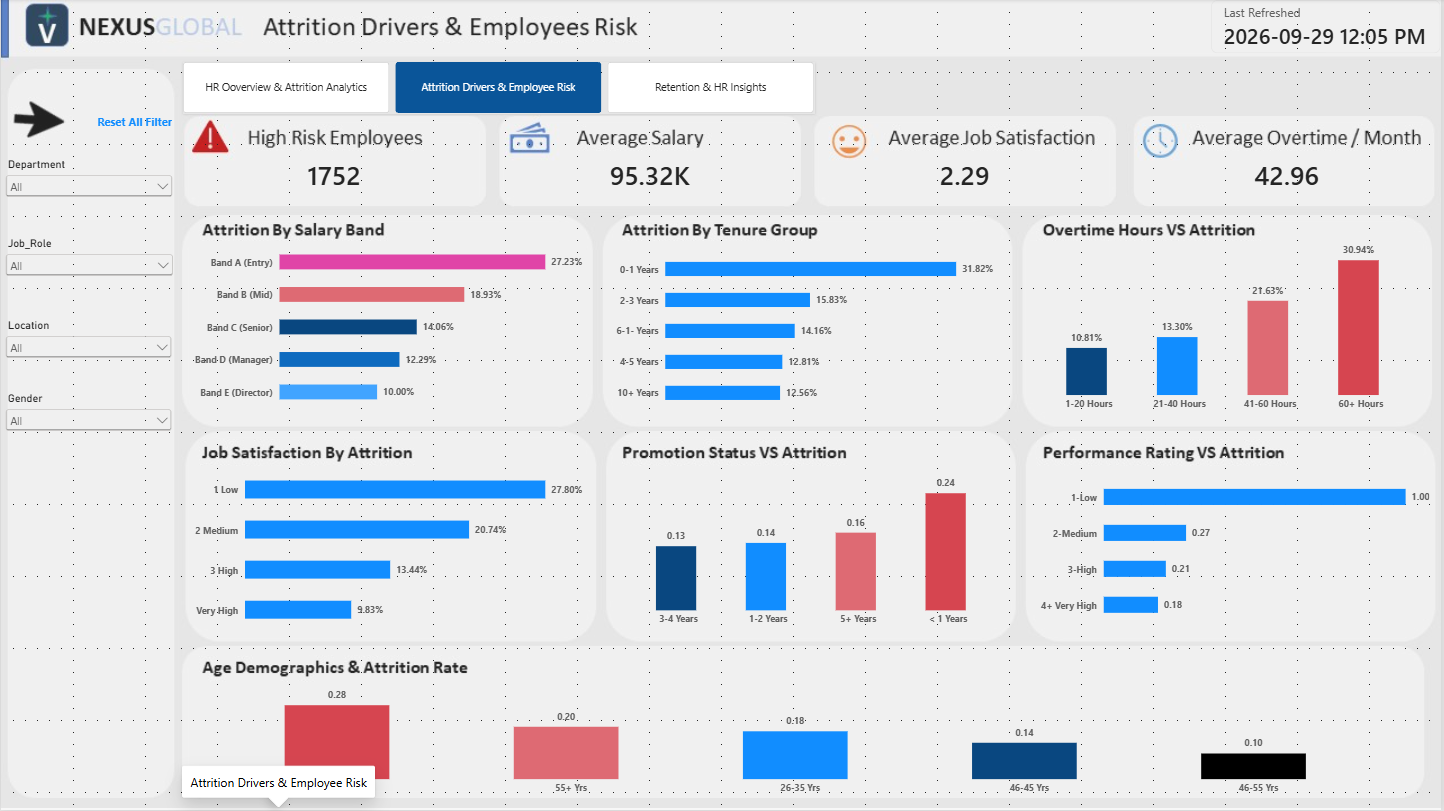

The page's visual inventory and layout, read from the dashboard file:
{"tool":"powerbi","page":{"name":"Attrition Drivers & Employee Risk","canvas":[1920,1080],"ordinal":1},"visuals":[{"type":"card","fields":{"Values":["Compensation.Average Salary"]},"box":[661.2,194.7,407,79.8],"z":0},{"type":"card","fields":{"Values":["Performance.Average Job Satisfaction"]},"box":[1084.4,194.7,401.6,79.8],"z":1000},{"type":"card","fields":{"Values":["Attendance_Attrition.Avg Overtime"]},"box":[1507.6,194.7,412.4,79.8],"z":2000},{"type":"card","fields":{"Values":["Attendance_Attrition.High Risk Employees"]},"box":[240.7,194.7,405.6,79.8],"z":3000},{"type":"clusteredBarChart","fields":{"Category":["Compensation.Salary_Band"],"Y":["Attendance_Attrition.ATTRITION RATE"]},"box":[240.7,300.2,550.3,267.7],"z":4000},{"type":"clusteredBarChart","fields":{"Category":["Employment_History.Tensure Group"],"Y":["Attendance_Attrition.ATTRITION RATE"]},"box":[803.2,311,536.8,256.9],"z":5000},{"type":"clusteredColumnChart","fields":{"Category":["Attendance_Attrition.Overtime Hours Group"],"Y":["Attendance_Attrition.ATTRITION RATE"]},"box":[1356.2,300.2,551.7,267.7],"z":6000},{"type":"clusteredBarChart","fields":{"Category":["Performance.Job Satisfaction Group"],"Y":["Attendance_Attrition.ATTRITION RATE"]},"box":[240.7,597.6,550.3,267.7],"z":7000},{"type":"clusteredColumnChart","fields":{"Category":["Employment_History.Promotion Years Group"],"Y":["Attendance_Attrition.ATTRITION RATE"]},"box":[809.1,610.3,547.2,244.1],"z":8000},{"type":"clusteredBarChart","fields":{"Category":["Performance.Peformance Group"],"Y":["Attendance_Attrition.ATTRITION RATE"]},"box":[1368.7,610.3,551.5,244.1],"z":9000},{"type":"clusteredColumnChart","fields":{"Category":["Employees.Age Demographics"],"Y":["Attendance_Attrition.ATTRITION RATE"]},"box":[240,892.8,1651.2,186.5],"z":10000},{"type":"pageNavigator","box":[242.3,82.3,842.7,68.6],"z":11000},{"type":"slicer","fields":{"Values":["Employees.Department"]},"box":[1.5,210.9,232,70.7],"z":12000},{"type":"slicer","fields":{"Values":["Employees.Job_Role"]},"box":[1.5,315.6,232.7,80],"z":13000},{"type":"slicer","fields":{"Values":["Employees.Location"]},"box":[1.5,424.7,231.3,75.6],"z":14000},{"type":"slicer","fields":{"Values":["Employees.Gender"]},"box":[1.5,522.2,231.3,84.4],"z":15000},{"type":"actionButton","box":[91.9,130.3,148.1,64.5],"z":16000},{"type":"cardVisual","fields":{"Data":["Employees.Last Refreshed"]},"box":[1613.7,0,306.3,71.6],"z":17000}]}

Visuals, with their boxes on the page's 1920x1080 design canvas (x1, y1, x2, y2). These are canvas units, not pixel positions in the 1444x811 screenshot, which may show the page scaled, cropped or inside an application window:
card - Compensation.Average Salary: 661, 195, 1068, 274
card - Performance.Average Job Satisfaction: 1084, 195, 1486, 274
card - Attendance_Attrition.Avg Overtime: 1508, 195, 1920, 274
card - Attendance_Attrition.High Risk Employees: 241, 195, 646, 274
clusteredBarChart - Compensation.Salary_Band x Attendance_Attrition.ATTRITION RATE: 241, 300, 791, 568
clusteredBarChart - Employment_History.Tensure Group x Attendance_Attrition.ATTRITION RATE: 803, 311, 1340, 568
clusteredColumnChart - Attendance_Attrition.Overtime Hours Group x Attendance_Attrition.ATTRITION RATE: 1356, 300, 1908, 568
clusteredBarChart - Performance.Job Satisfaction Group x Attendance_Attrition.ATTRITION RATE: 241, 598, 791, 865
clusteredColumnChart - Employment_History.Promotion Years Group x Attendance_Attrition.ATTRITION RATE: 809, 610, 1356, 854
clusteredBarChart - Performance.Peformance Group x Attendance_Attrition.ATTRITION RATE: 1369, 610, 1920, 854
clusteredColumnChart - Employees.Age Demographics x Attendance_Attrition.ATTRITION RATE: 240, 893, 1891, 1079
pageNavigator: 242, 82, 1085, 151
slicer - Employees.Department: 2, 211, 234, 282
slicer - Employees.Job_Role: 2, 316, 234, 396
slicer - Employees.Location: 2, 425, 233, 500
slicer - Employees.Gender: 2, 522, 233, 607
actionButton: 92, 130, 240, 195
cardVisual - Employees.Last Refreshed: 1614, 0, 1920, 72
